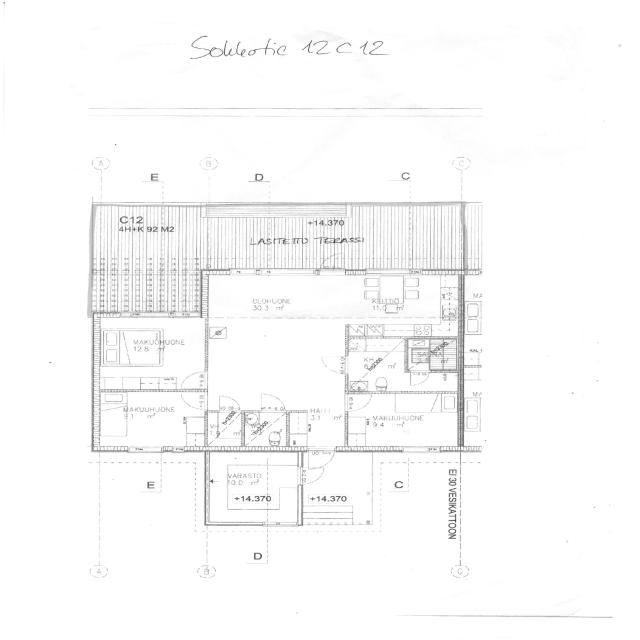door: (305, 448, 336, 470), (317, 354, 348, 375), (257, 391, 286, 413), (318, 252, 346, 274), (176, 370, 206, 390), (177, 390, 207, 410), (345, 392, 372, 412), (298, 466, 325, 485), (216, 393, 240, 412), (407, 370, 431, 388)
window: (458, 201, 478, 265), (263, 267, 317, 278), (399, 445, 444, 455)
zone: (208, 268, 460, 338), (204, 338, 346, 410), (94, 317, 207, 391), (202, 452, 302, 526), (346, 392, 461, 451), (93, 391, 205, 451), (344, 339, 408, 392), (406, 338, 460, 372), (244, 412, 288, 449), (206, 412, 244, 448), (463, 335, 483, 367), (462, 302, 481, 334)
